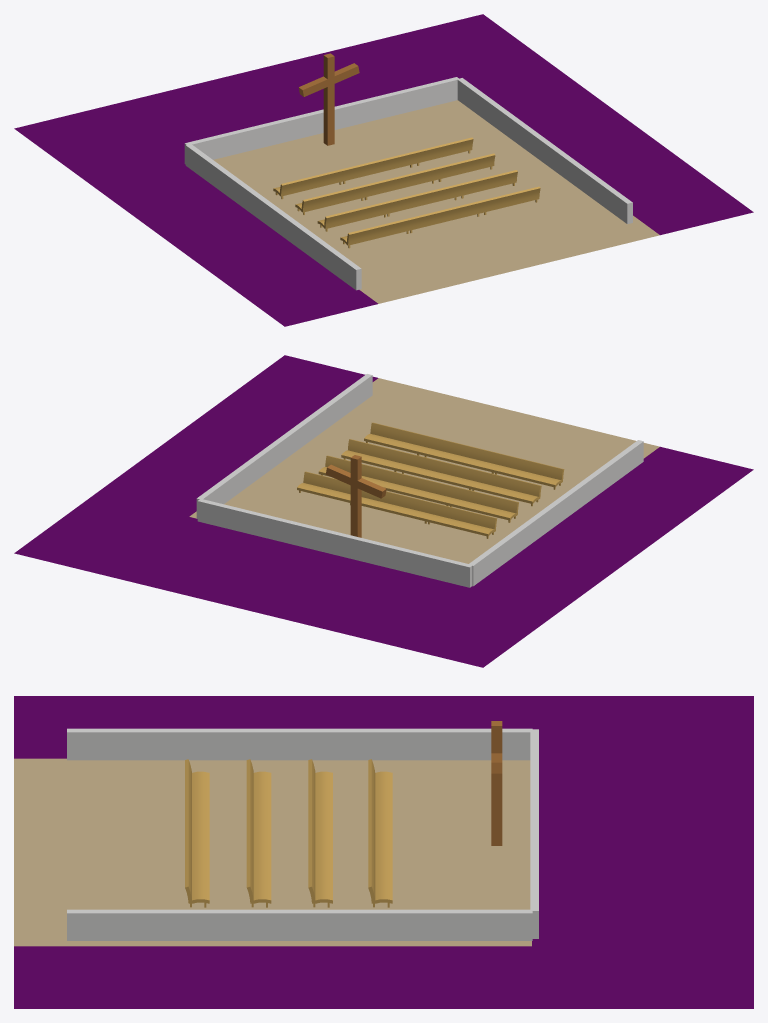
The model's file is InsideChurch.fbx.
The picture shows the model from 3 angles, top to bottom: view 1: azimuth 30°, elevation 25°; view 2: azimuth 150°, elevation 25°; view 3: azimuth 270°, elevation 25°; orthographic projection. The views are drawn at different scales.
Parts seen in each view (by area): view 1: pPlane2; view 2: pPlane2; view 3: pPlane2.
Part boxes in pixels (left/top/right/bottom): pPlane2: left=14, top=14, right=753, bottom=326; pPlane2: left=14, top=355, right=753, bottom=667; pPlane2: left=14, top=696, right=753, bottom=1008.
Bounding box in the file's own units: 692 × 132 × 692.
